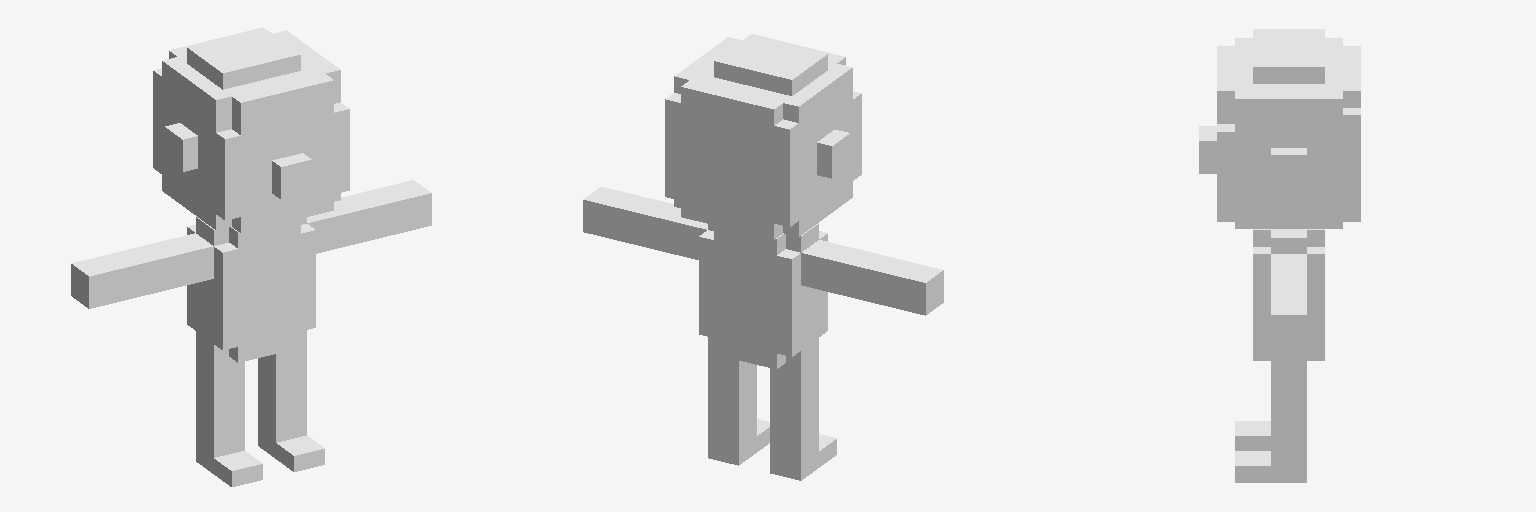
The model's file is Child_Real.obj.
The picture shows the model from 3 angles: view 1: azimuth 30°, elevation 25°; view 2: azimuth 150°, elevation 25°; view 3: azimuth 270°, elevation 25°; orthographic projection.
Visible parts, largest first — view 1: Child_Real; view 2: Child_Real; view 3: Child_Real.
Boxes of the visible parts, box(x1,y1,x2,y2) form: Child_Real: box(71, 28, 431, 486); Child_Real: box(583, 34, 943, 480); Child_Real: box(1199, 29, 1360, 482).
Bounding box in the file's own units: 22 × 25 × 9.